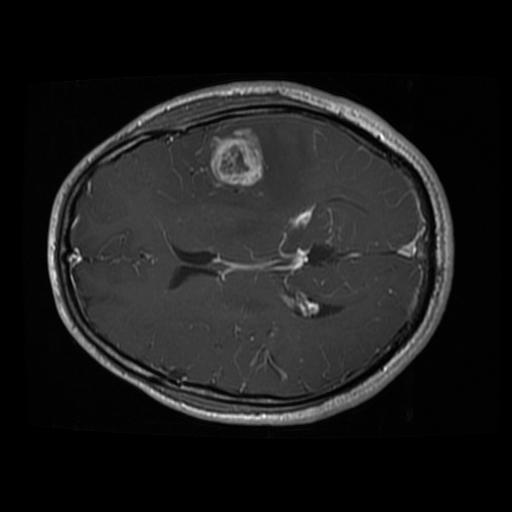glioma: (204, 126, 268, 189)
